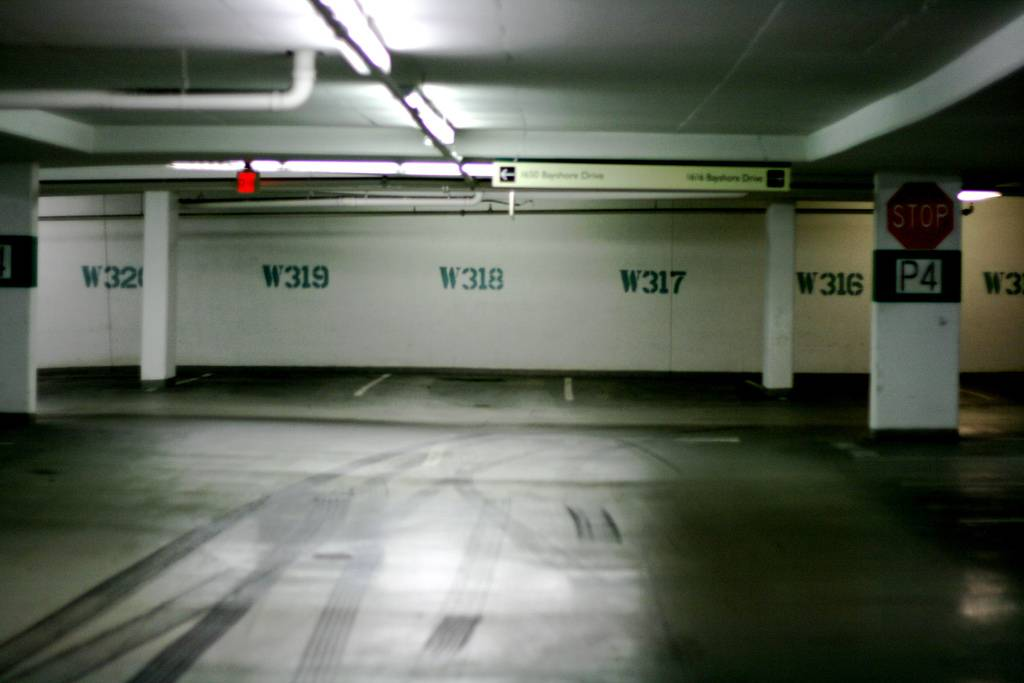empyt_space: (346, 358, 588, 415), (148, 368, 400, 408)
